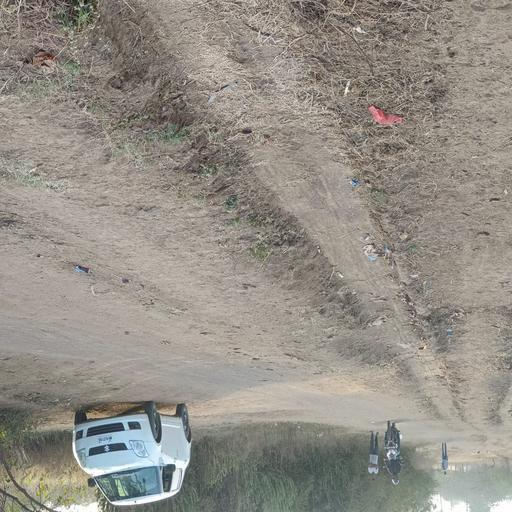vehicle_track: (133, 0, 454, 414)
